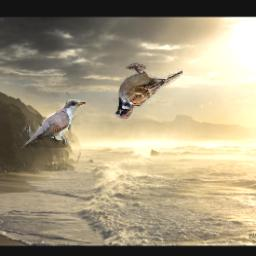Cuckoo: (21, 99, 86, 148)
Sparrow: (113, 62, 184, 122)
